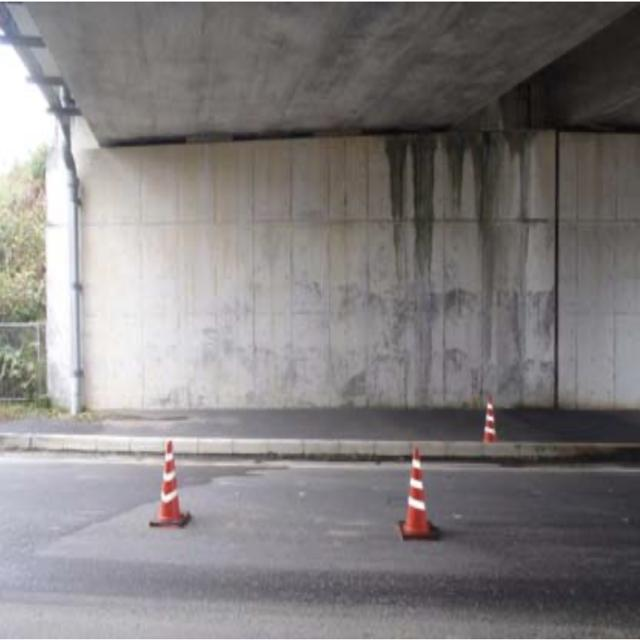leakage: (393, 127, 524, 387)
